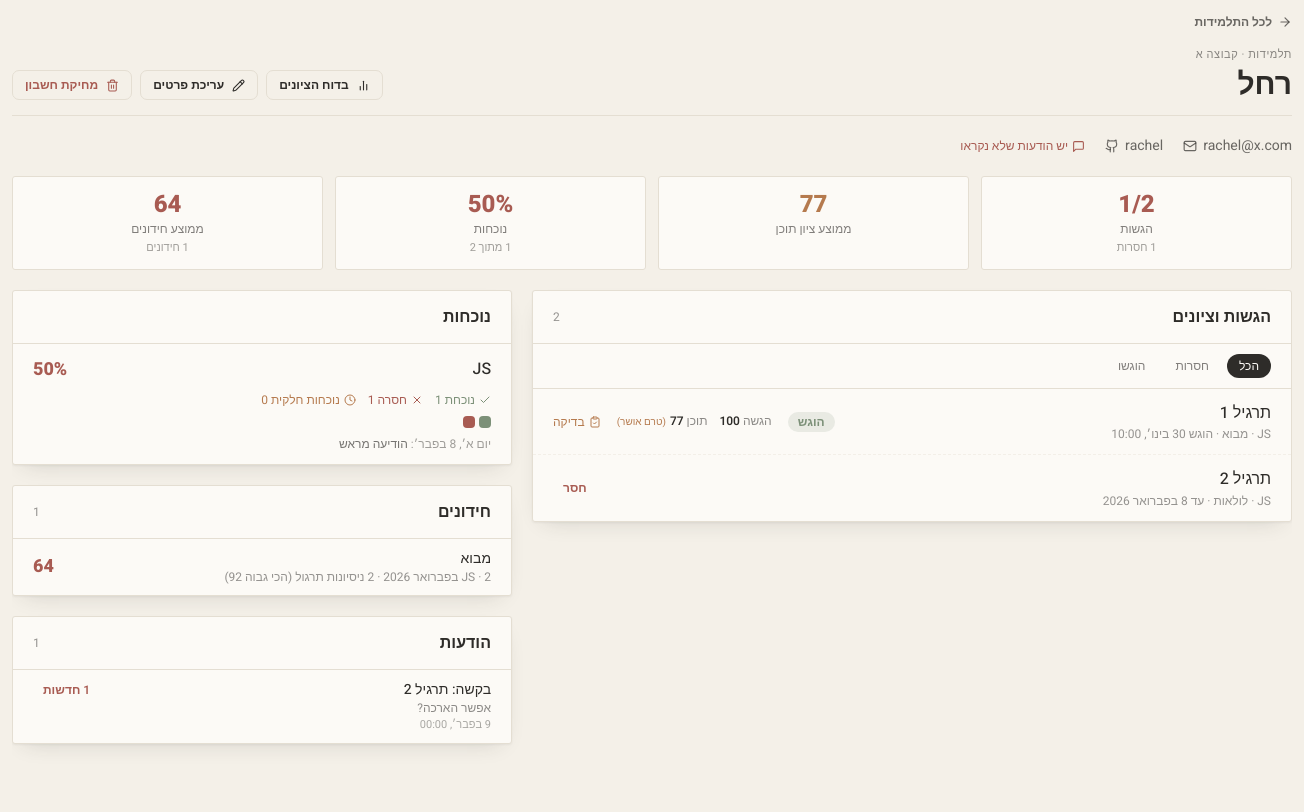
Test: StudentDetailPage › filters the work list to missing assignments
The width and height of the screenshot is (1304, 812).
Expected: the text "תרגיל 1" is shown, top-left (1220, 401), bottom-right (1271, 425)
Click the button "חסרות" at [1192, 366], box top-left (1163, 354), bottom-right (1221, 378)
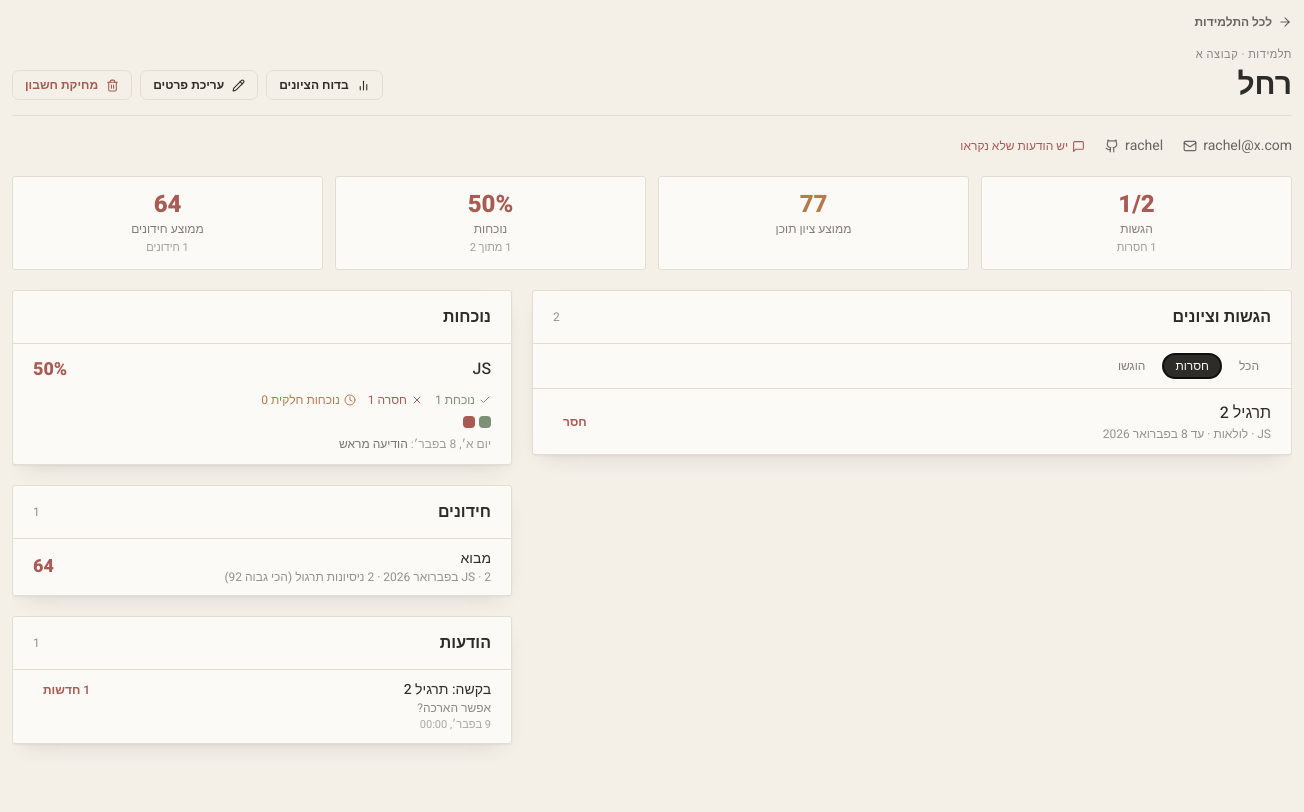
Expected: the text "תרגיל 2" is shown, top-left (1220, 401), bottom-right (1271, 425)
Expected: the text "תרגיל 1" is gone
